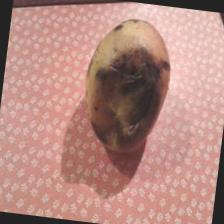Mango Rotten: (78, 8, 178, 159)
